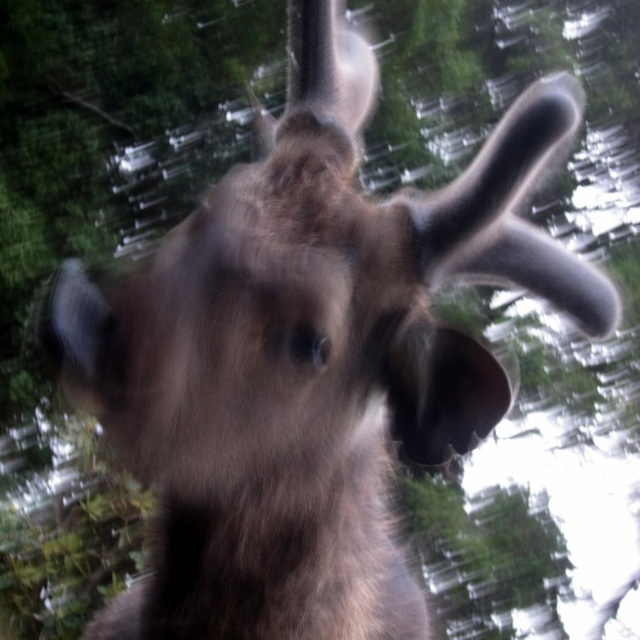Deer: (22, 0, 622, 640)
